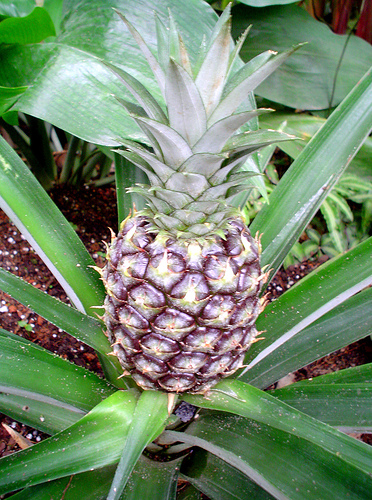pineapple: (83, 2, 313, 397)
